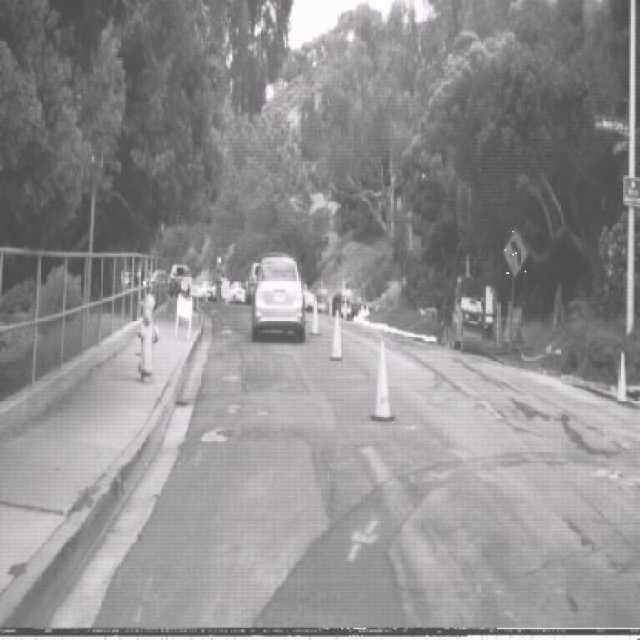curveLeft: (503, 228, 528, 277)
